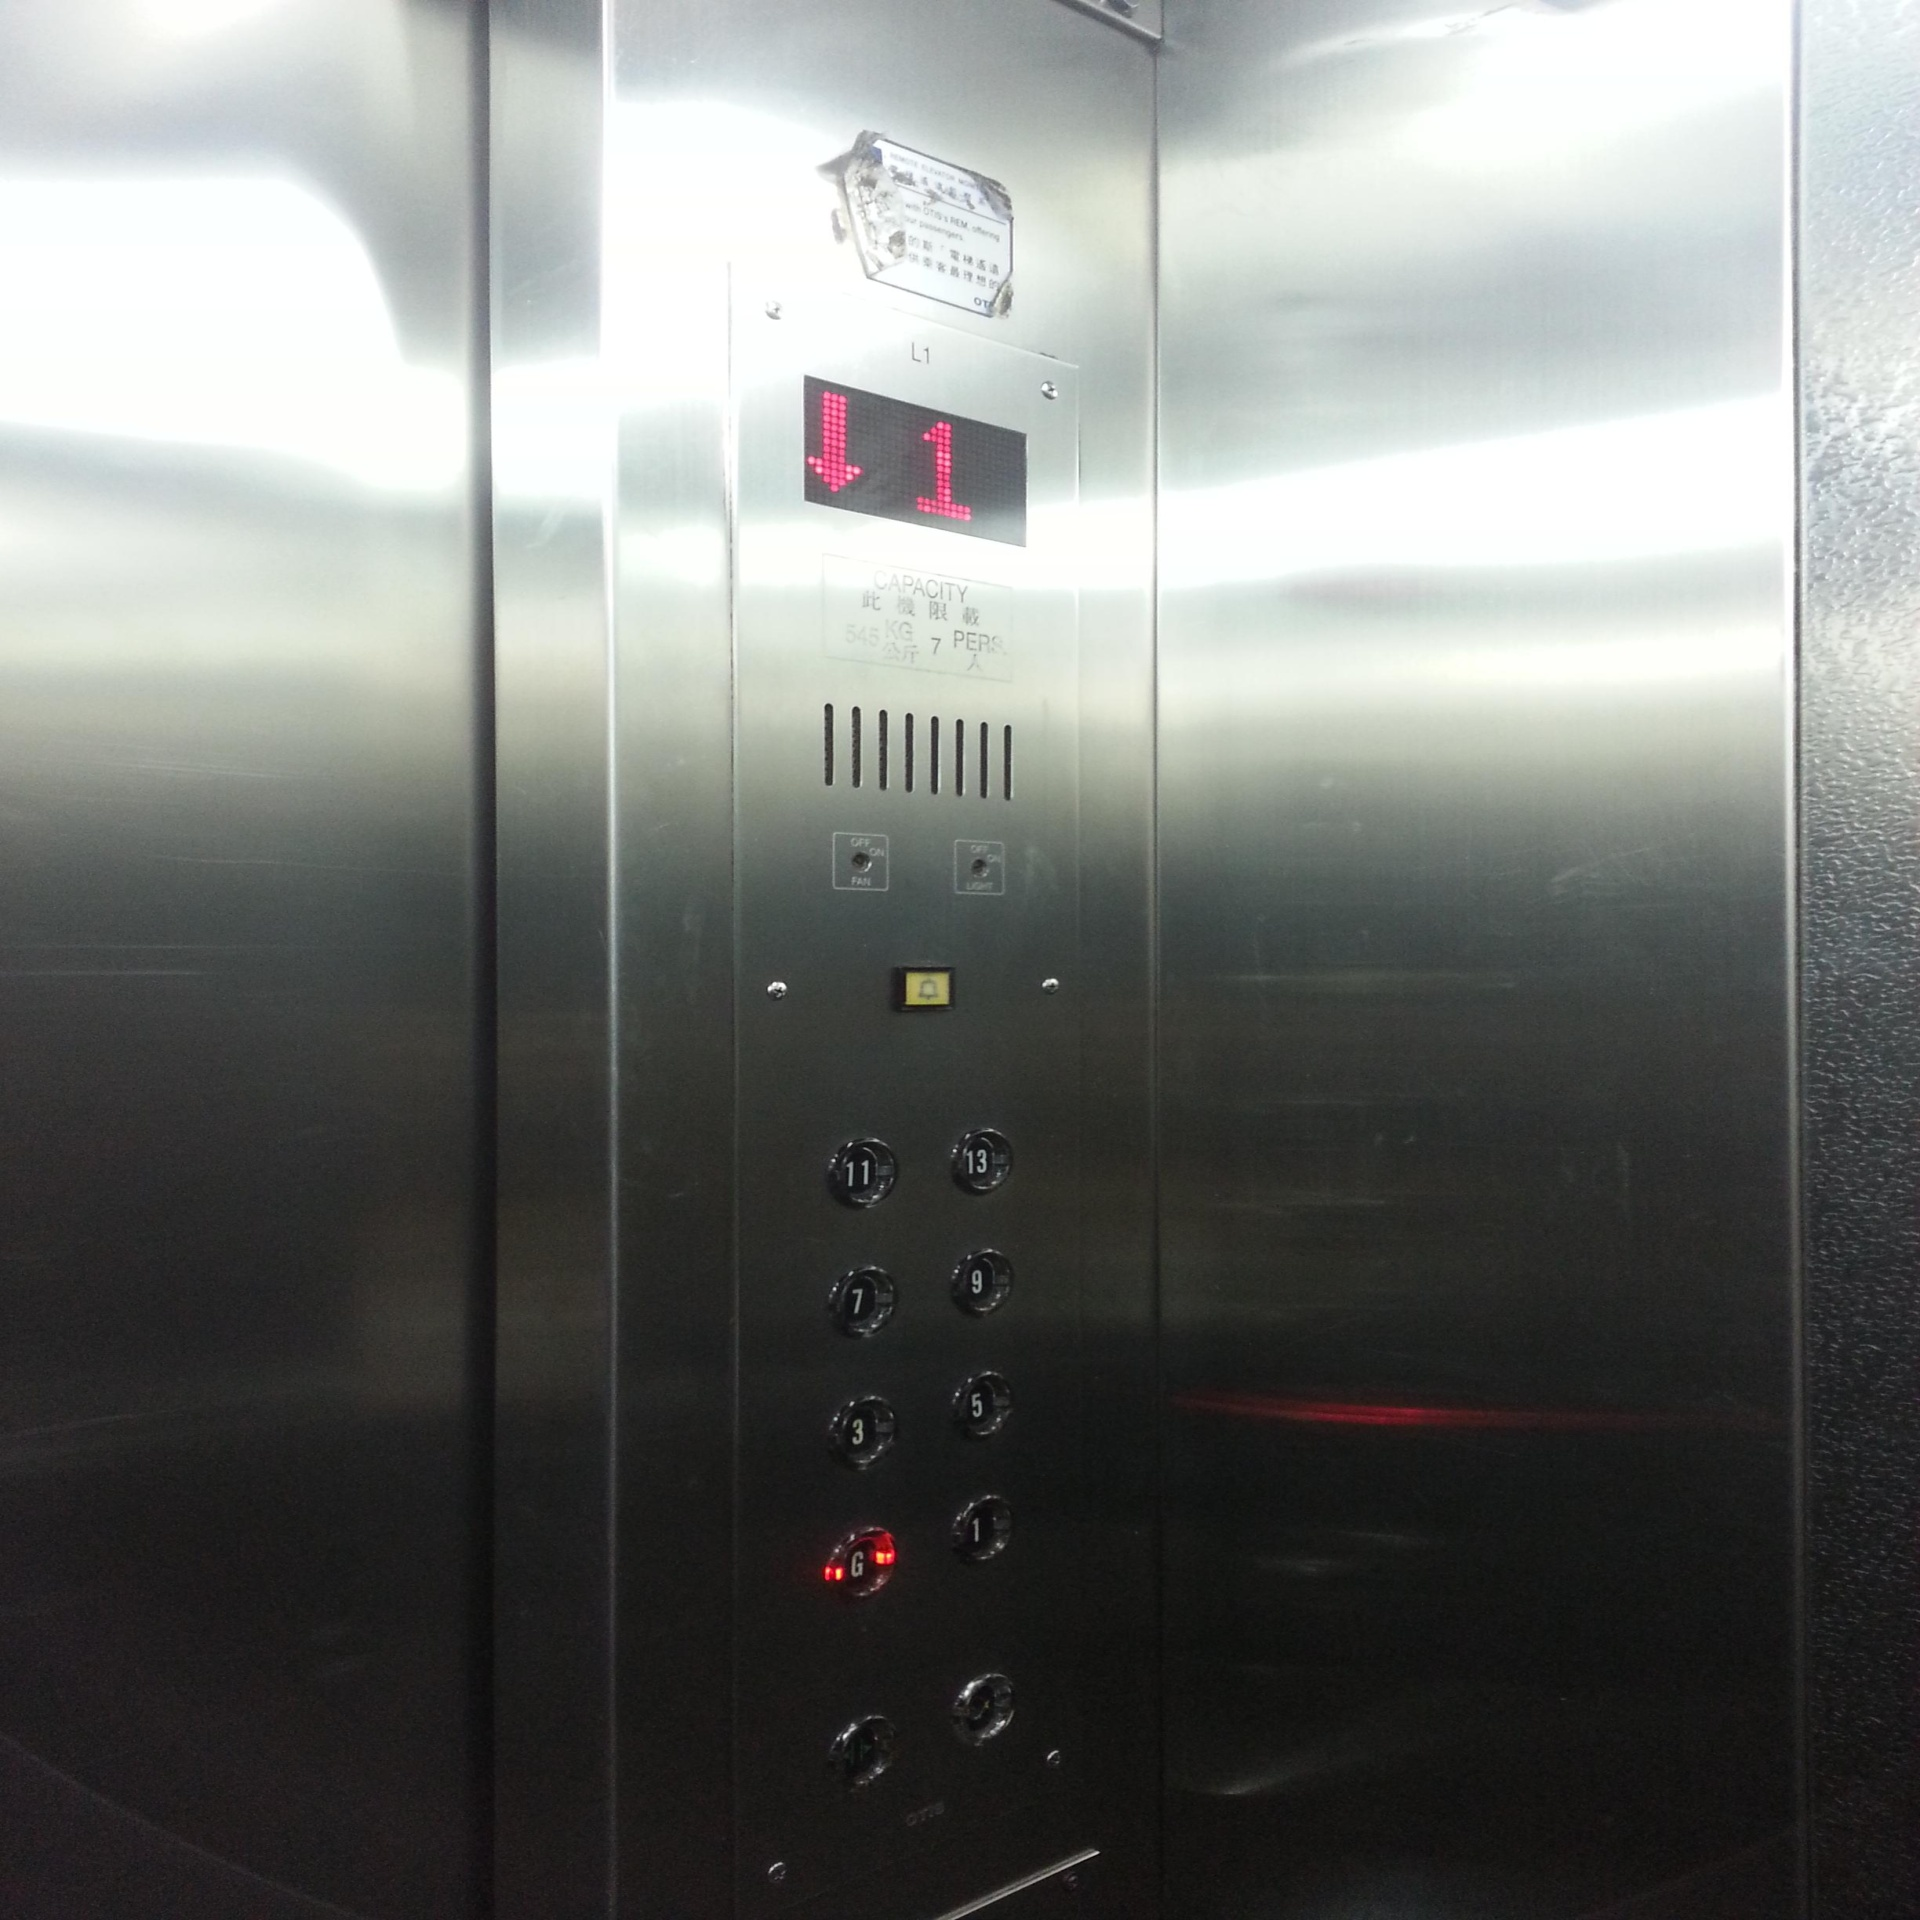1: (951, 1495, 1015, 1565)
11: (826, 1136, 898, 1206)
13: (949, 1124, 1016, 1199)
3: (826, 1394, 897, 1468)
5: (951, 1370, 1016, 1438)
7: (826, 1264, 897, 1336)
9: (948, 1247, 1016, 1315)
G: (823, 1524, 900, 1598)
alarm: (893, 964, 958, 1015)
close: (946, 1672, 1020, 1746)
led: (796, 364, 1036, 561)
open: (825, 1713, 904, 1786)
unknown: (828, 832, 891, 895), (951, 839, 1009, 897)
